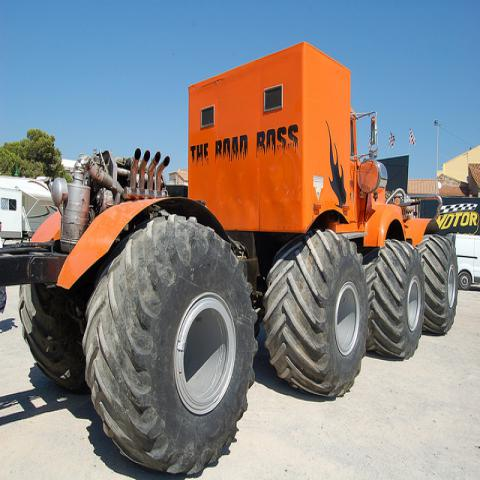bus: (408, 197, 480, 289)
car: (445, 233, 479, 289)
truck: (1, 43, 457, 478)
